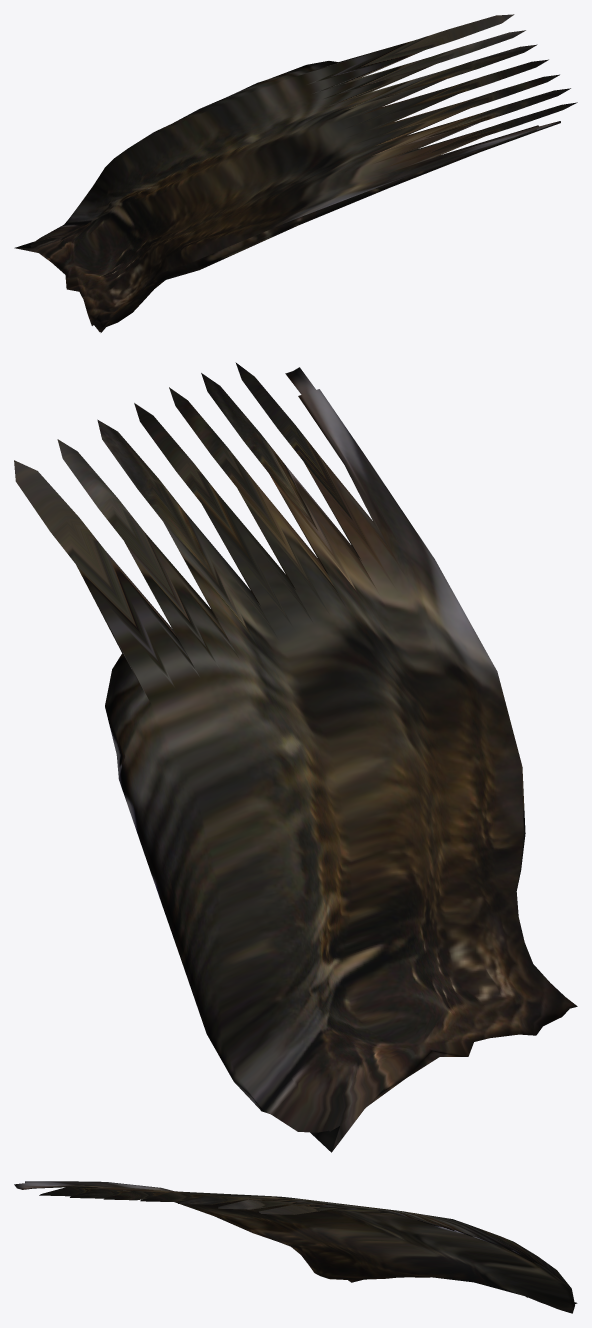
The model's file is AlaIzquierda.obj.
The picture shows the model from 3 angles, top to bottom: view 1: azimuth 30°, elevation 25°; view 2: azimuth 150°, elevation 25°; view 3: azimuth 270°, elevation 25°; orthographic projection. The views are drawn at different scales.
Parts seen in each view (by area): view 1: Flugel.002_Plane.002; view 2: Flugel.002_Plane.002; view 3: Flugel.002_Plane.002.
Part boxes in pixels (bbox=[...]): Flugel.002_Plane.002: bbox=[14, 14, 577, 332]; Flugel.002_Plane.002: bbox=[14, 362, 577, 1152]; Flugel.002_Plane.002: bbox=[14, 1181, 577, 1313].
Bounding box in the file's own units: 4.32 × 2.72 × 5.03.
1 material, 1 textured.
